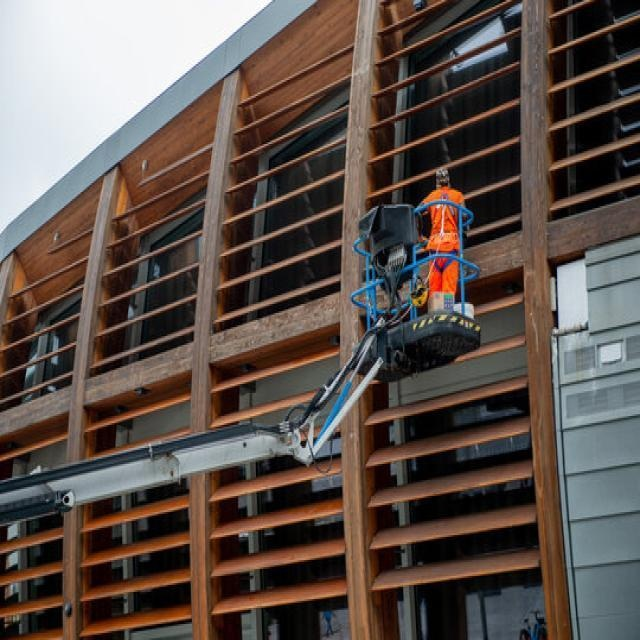Arnes_seguridad: (430, 187, 458, 272)
